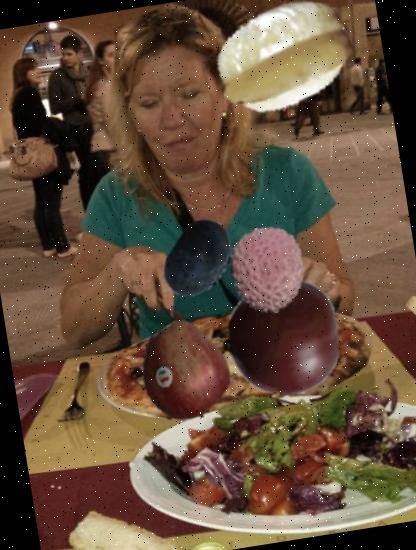Apple: (129, 318, 239, 428)
Blueberry: (152, 212, 249, 308)
Carambula: (203, 0, 361, 136)
Cherry: (218, 270, 350, 402)
Lychee: (218, 220, 318, 321)
